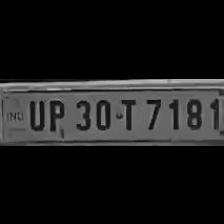0: (92, 94, 114, 130)
1: (162, 94, 180, 130), (206, 94, 222, 130)
3: (69, 94, 91, 130)
7: (140, 94, 162, 130)
8: (180, 94, 204, 130)
P: (43, 95, 67, 131)
T: (116, 94, 138, 130)
U: (23, 96, 45, 130)
